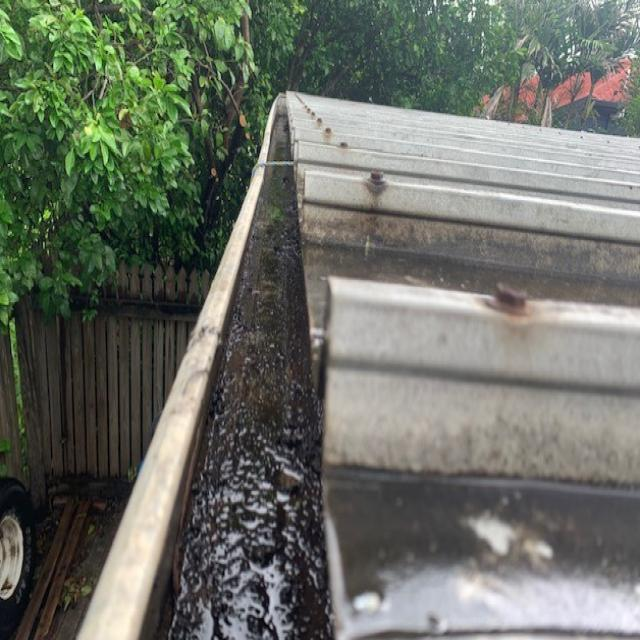Breeding Place: (62, 89, 349, 640)
